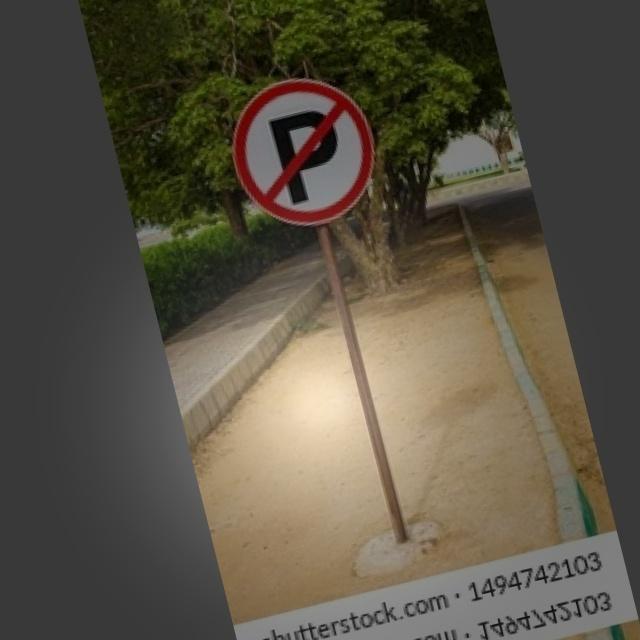No_Parking: (219, 65, 390, 242)
